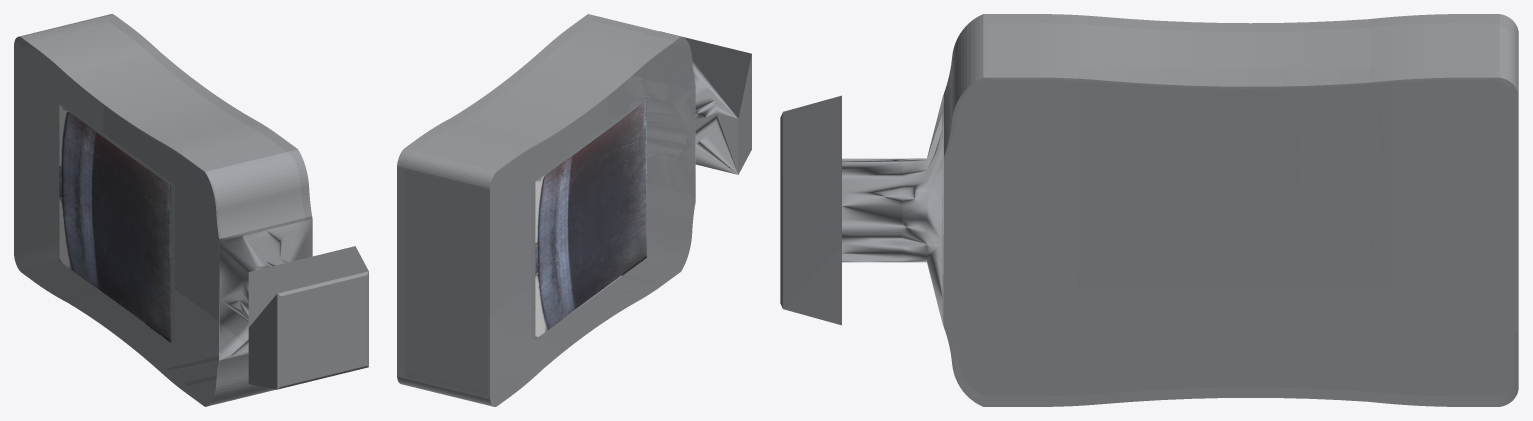
The model's file is model_align.obj.
3 views of the same model, side by side, from view 1: azimuth 30°, elevation 25°; view 2: azimuth 150°, elevation 25°; view 3: azimuth 270°, elevation 25° (orthographic). The views are drawn at different scales.
Size of the model in its own units: 0.0458 by 0.0963 by 0.1956.
